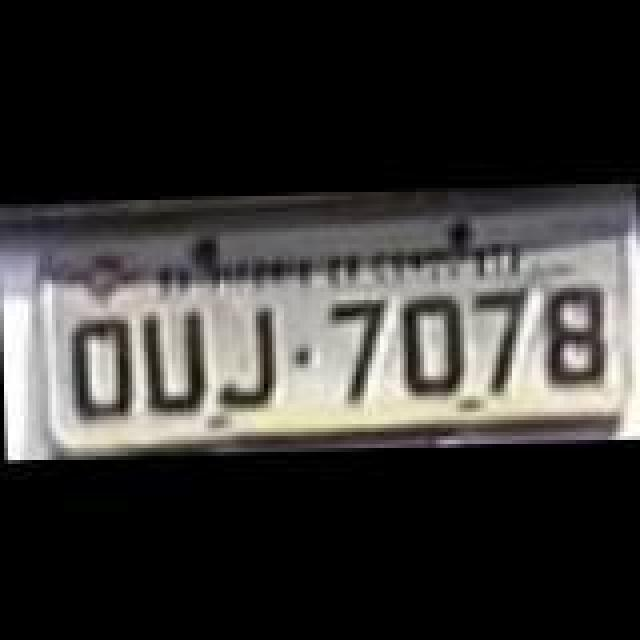7: (470, 282, 538, 390), (326, 298, 394, 406)
8: (540, 280, 612, 392)
J: (214, 300, 282, 412)
O: (396, 286, 468, 402), (66, 314, 142, 422)
U: (138, 302, 214, 418)
